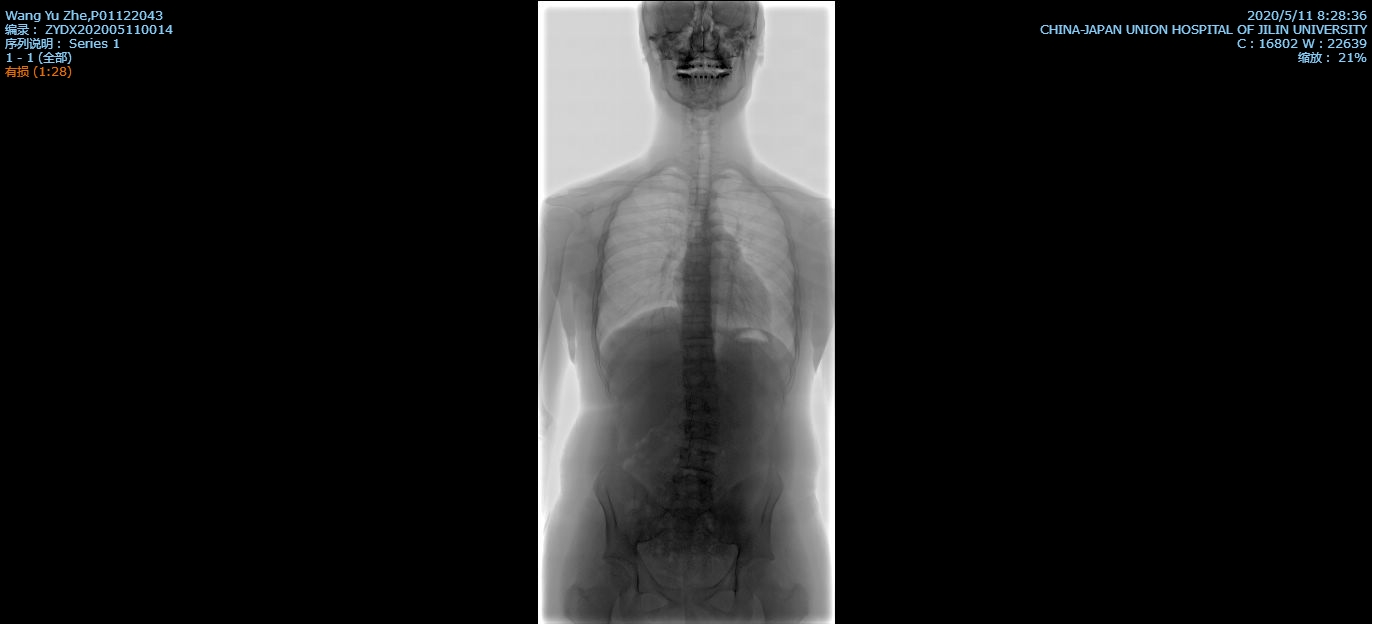Bone: (674, 475, 712, 498), (680, 447, 715, 469), (683, 420, 718, 440), (687, 396, 720, 415), (682, 369, 715, 386), (684, 344, 714, 362), (683, 320, 712, 338), (682, 298, 711, 315), (684, 280, 710, 294), (685, 241, 709, 256), (684, 260, 709, 274)
